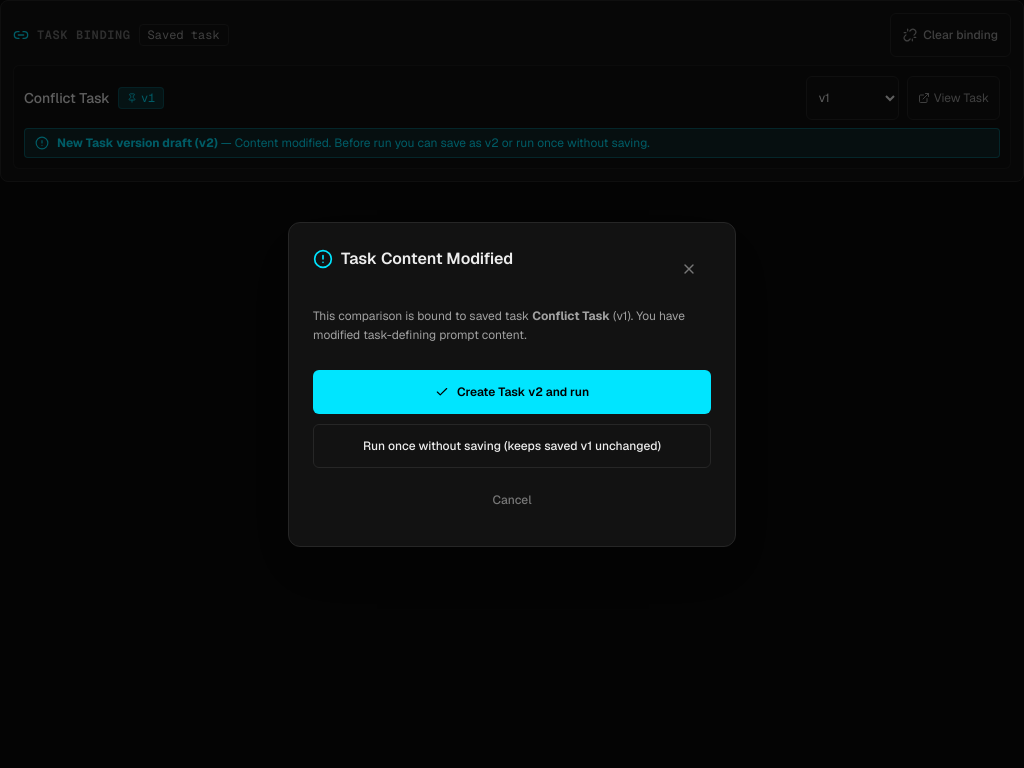
Test: ComparisonTaskBindingControl › surfaces stale version CAS conflict cleanly without proceeding with run
This screenshot has width=1024, height=768.
Note: Trigger create version and run
Click the button "Create Task v2 and run" at (512,392), box [313,370,711,414]
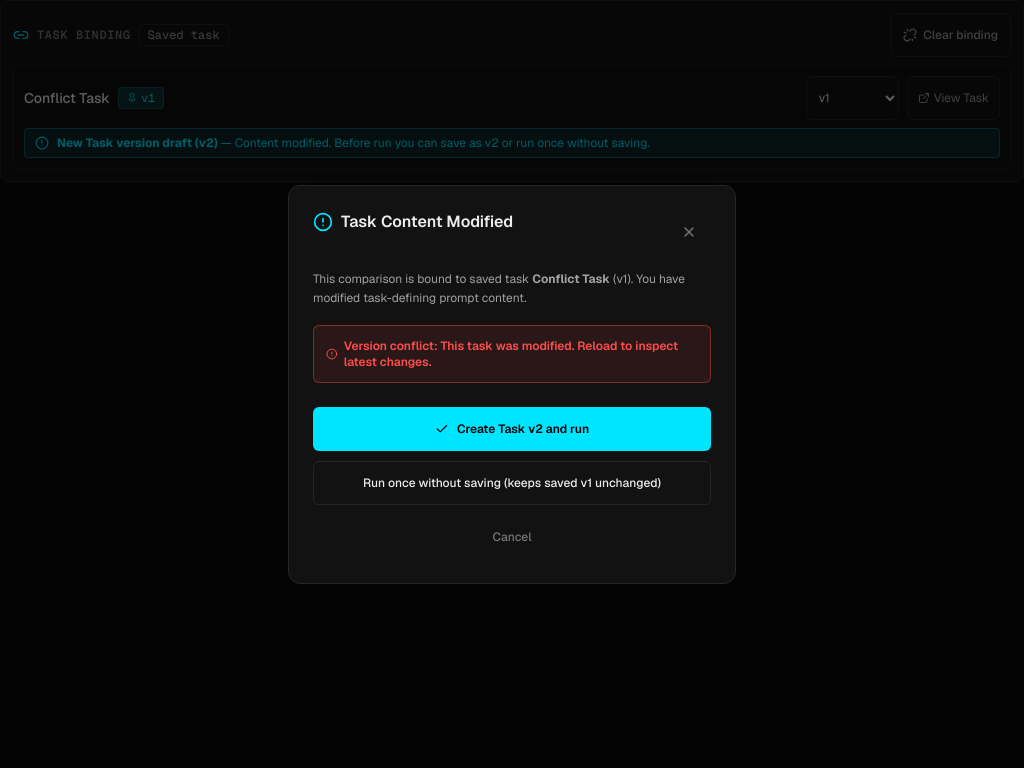
expect the message "Version conflict: This task was modified. Reload to inspect latest changes." is shown: met, box [313,324,711,382]
expect the message with test id "task-conflict-banner" shows "Version conflict": met, box [344,338,678,370]
